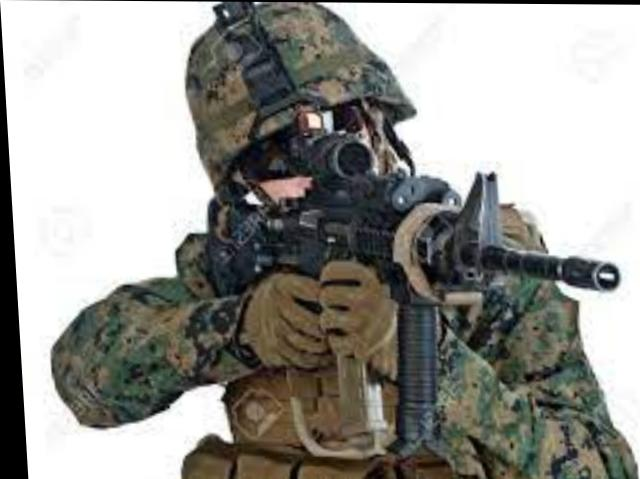other: (36, 2, 628, 478)
